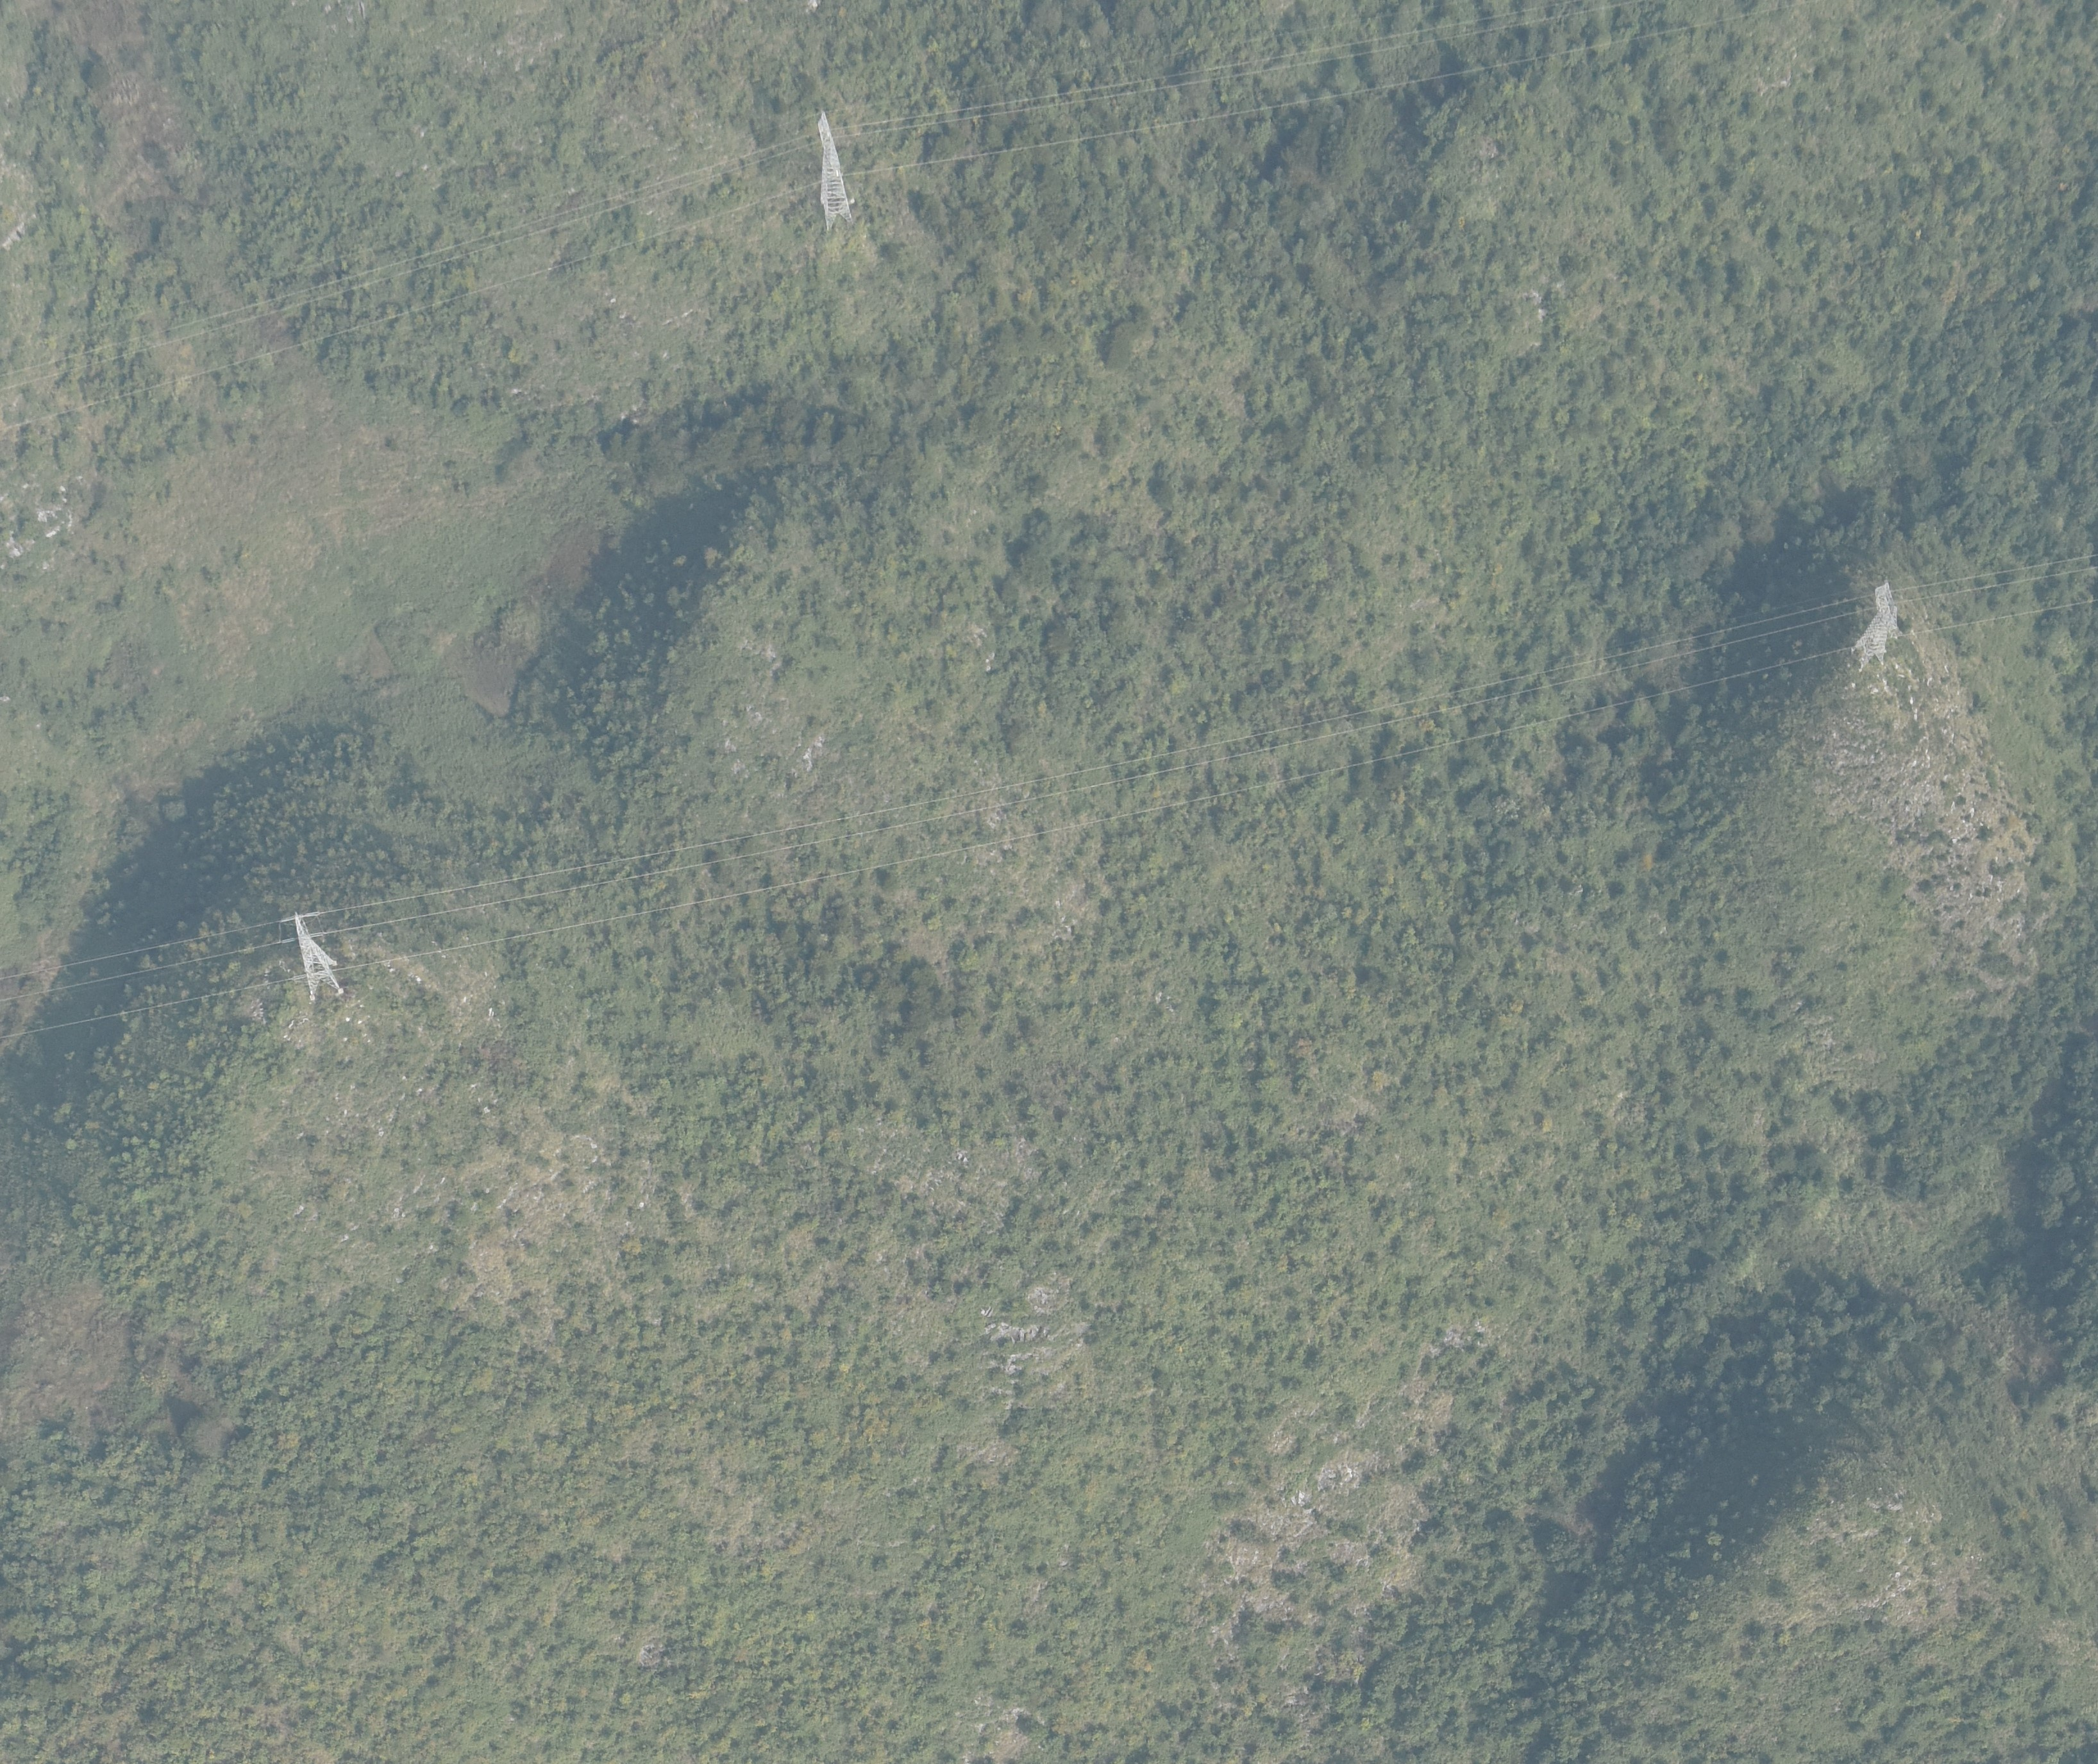cable-tower: (280, 910, 345, 996), (817, 110, 854, 233), (1853, 579, 1899, 668)
